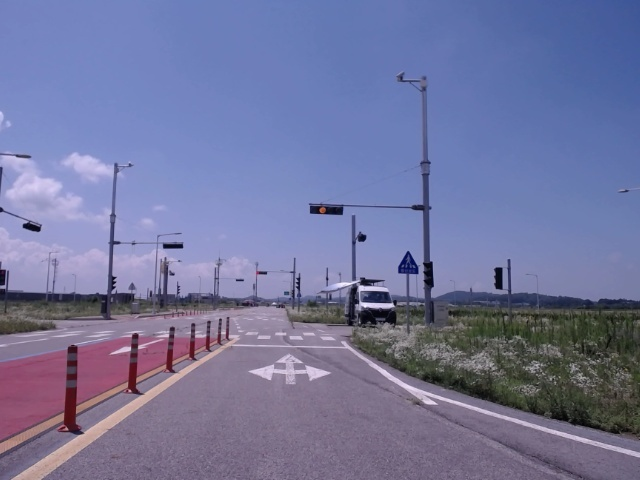orange_4: (309, 205, 342, 215)
